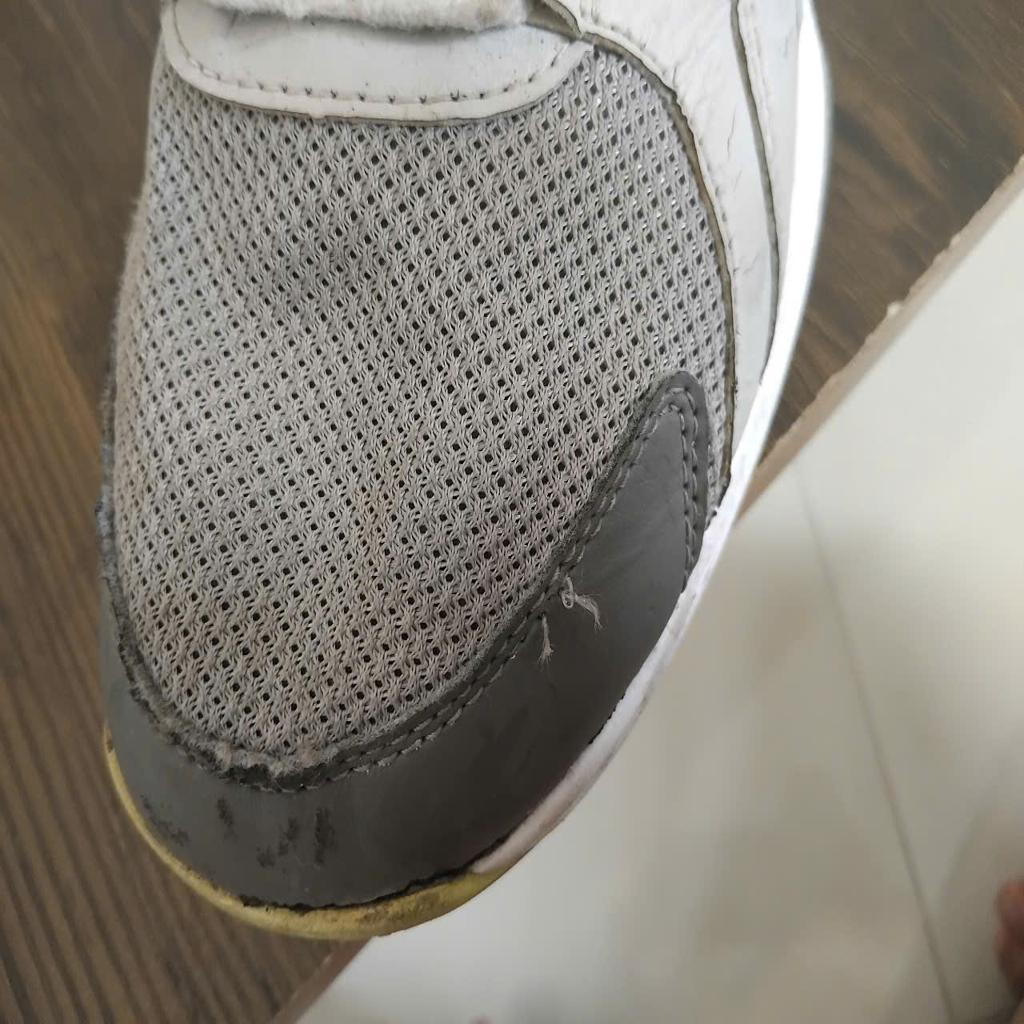broken: (540, 568, 605, 666)
